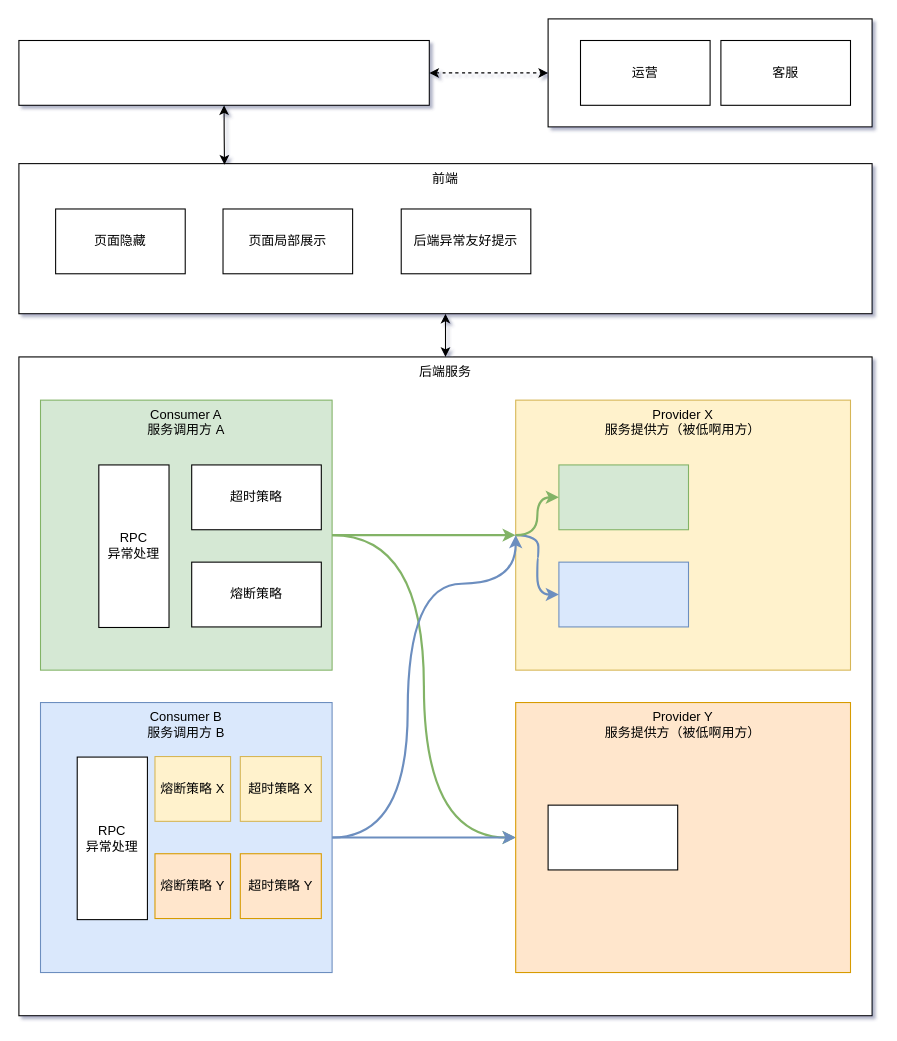
Image size: 897x1041. Some labels were removed from this diagram. Each missing label, with the centre of its shape:
用户: point 223,72
限流策略: point 612,837
限流策略 A: point 623,497
限流策略 B: point 623,594
